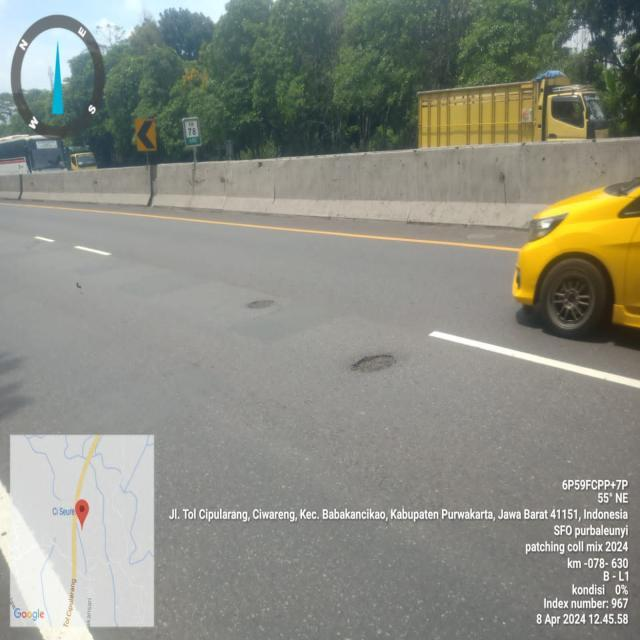Buraco: (348, 352, 400, 374), (244, 298, 277, 311), (73, 280, 85, 290)
